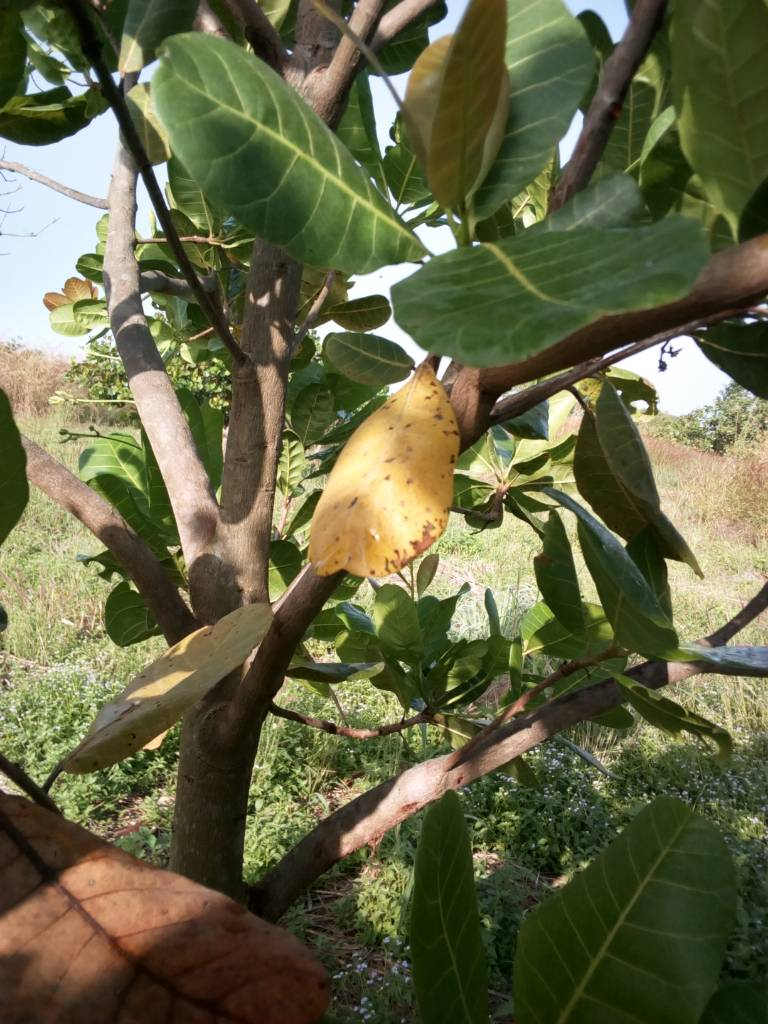Anthracnose: (304, 361, 455, 582)
